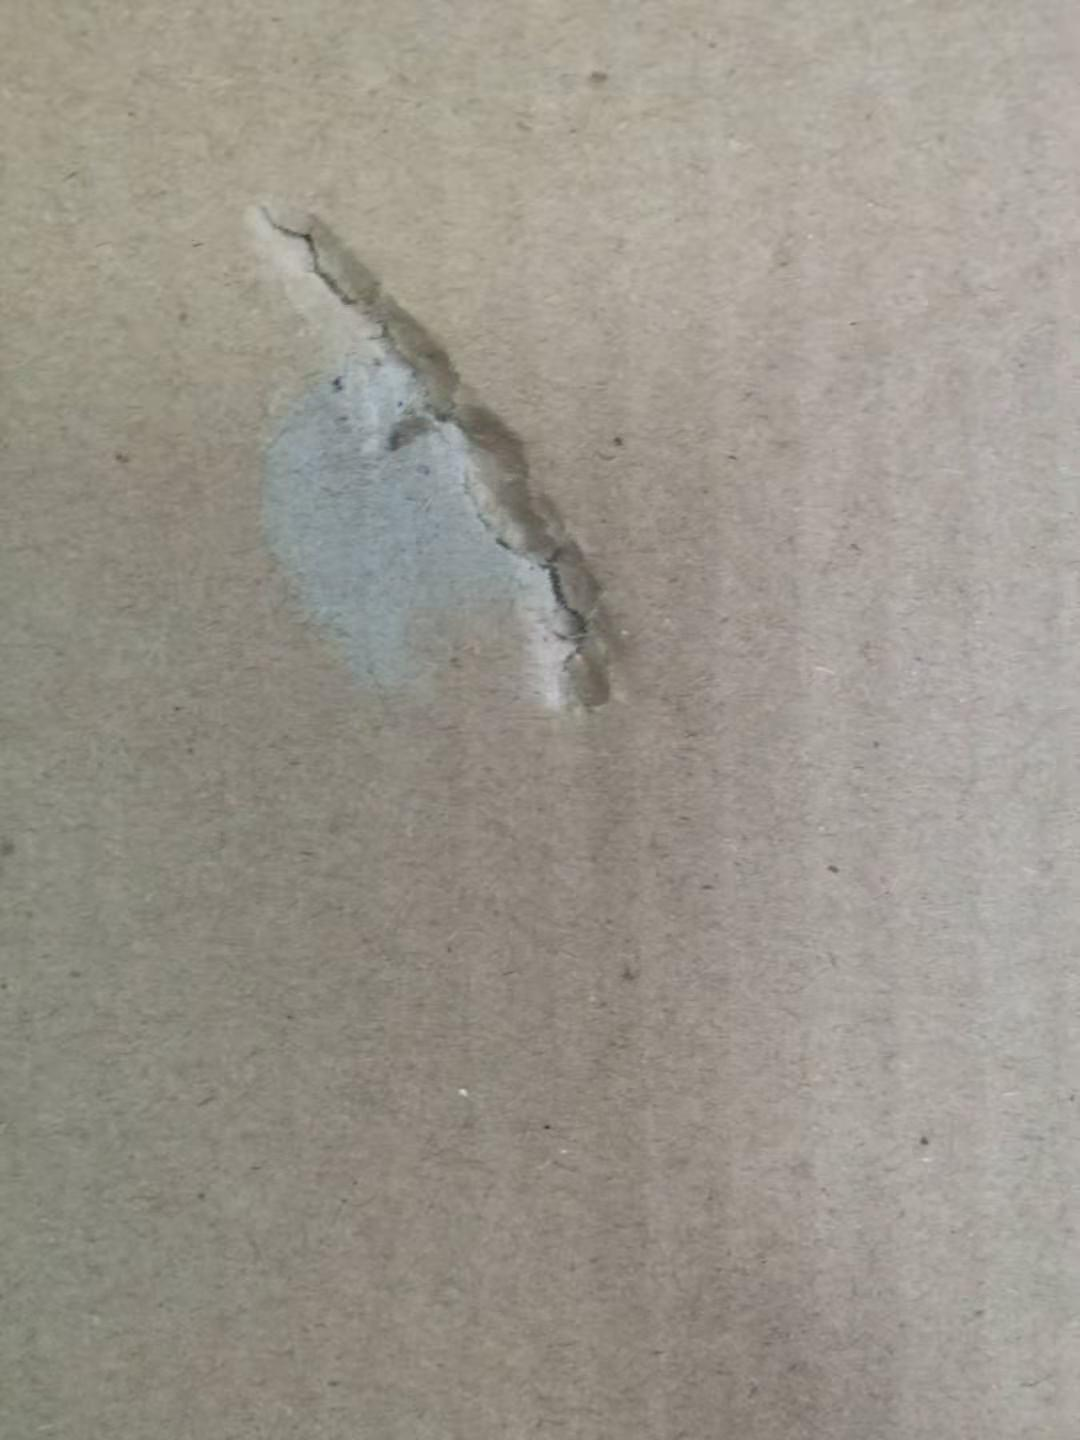defect: (216, 155, 687, 770)
